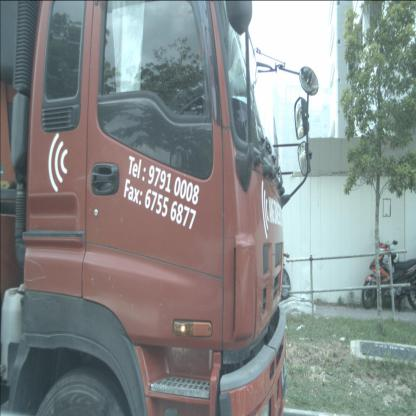vehicle-motorcycle: (361, 240, 416, 311), (243, 246, 291, 300)
vehicle-truck: (0, 1, 287, 414)
